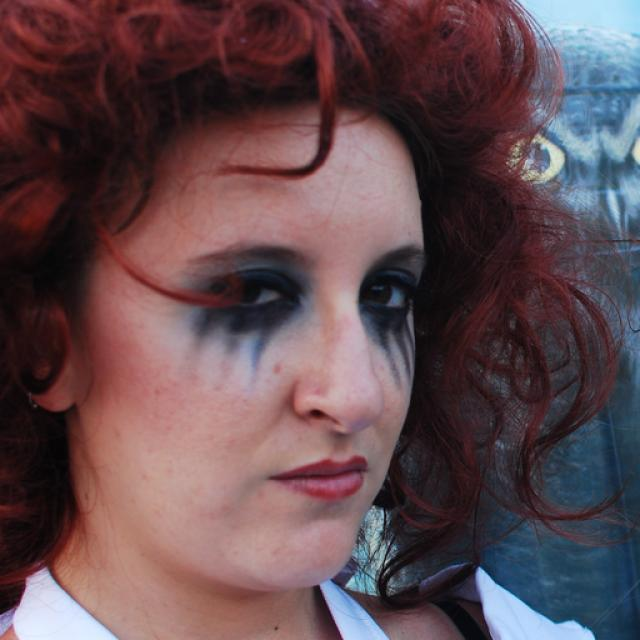neutral: (81, 85, 425, 596)
